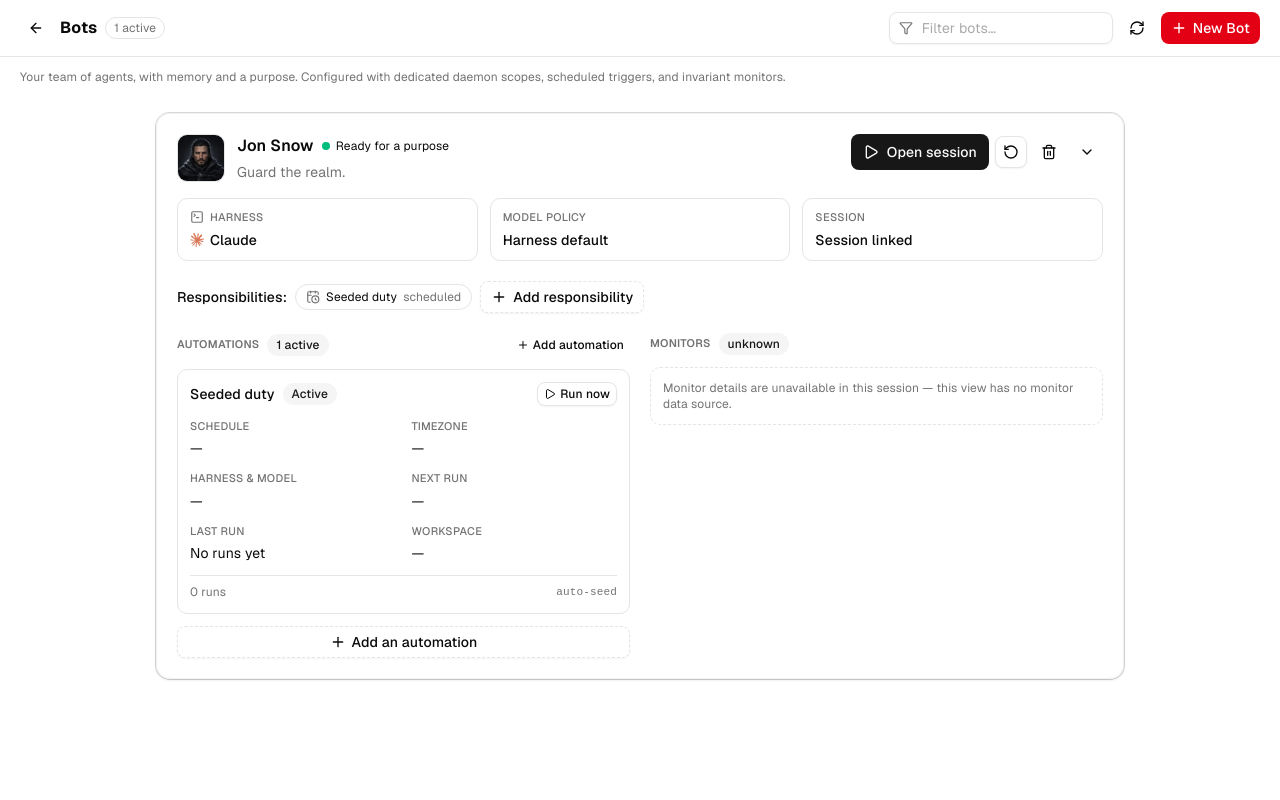
Scenario: bot open session reuse › opens a fresh session with an honest notice when the recorded link is a resolved phantom
Click the button with test id "open-session-bot-1". click: (920, 152)
box: [851,134,989,170]
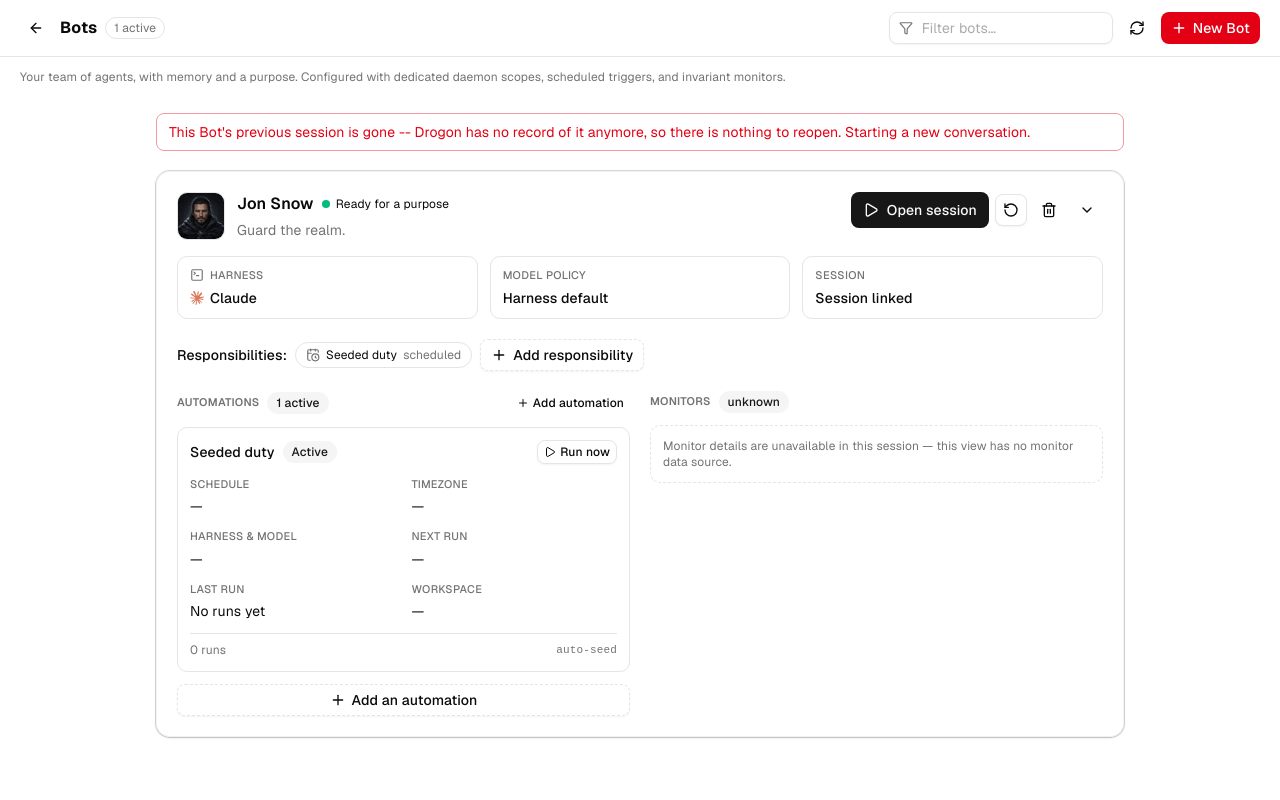
Now the message shows "previous session is gone", box [169,123,1030,141]
Now the message shows "Starting a new conversation", box [169,123,1030,141]
